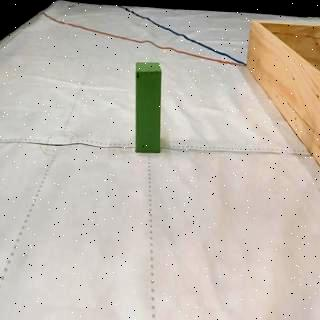greenbox: (134, 61, 162, 152)
